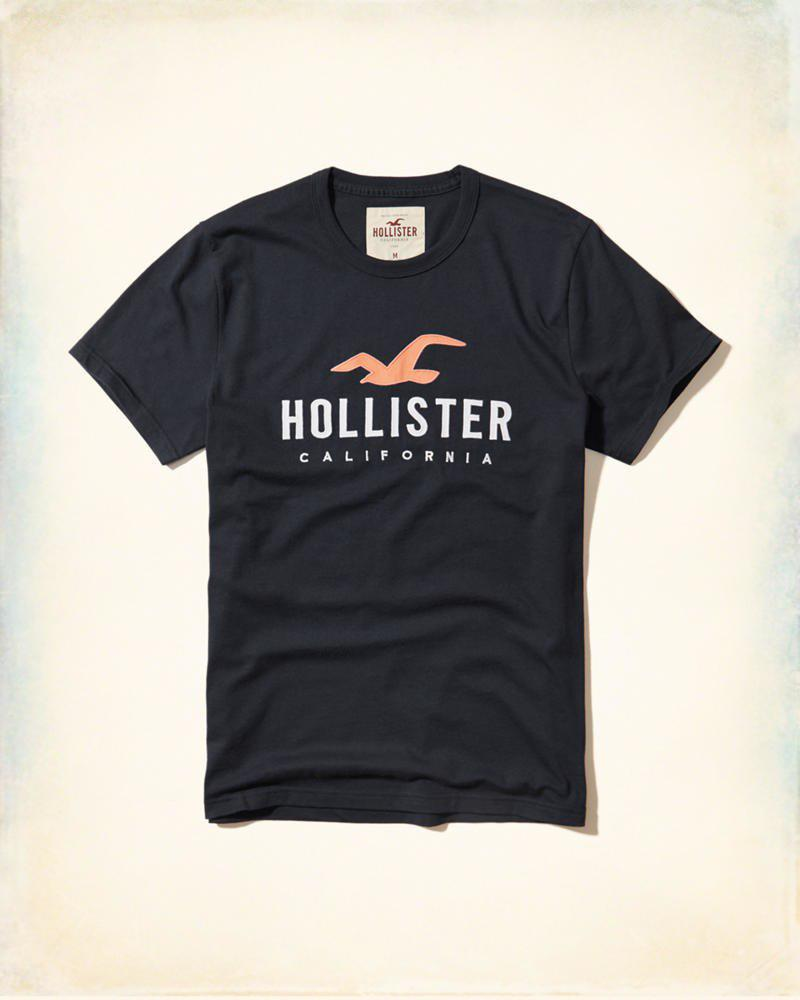teeshirt: (21, 151, 797, 875)
